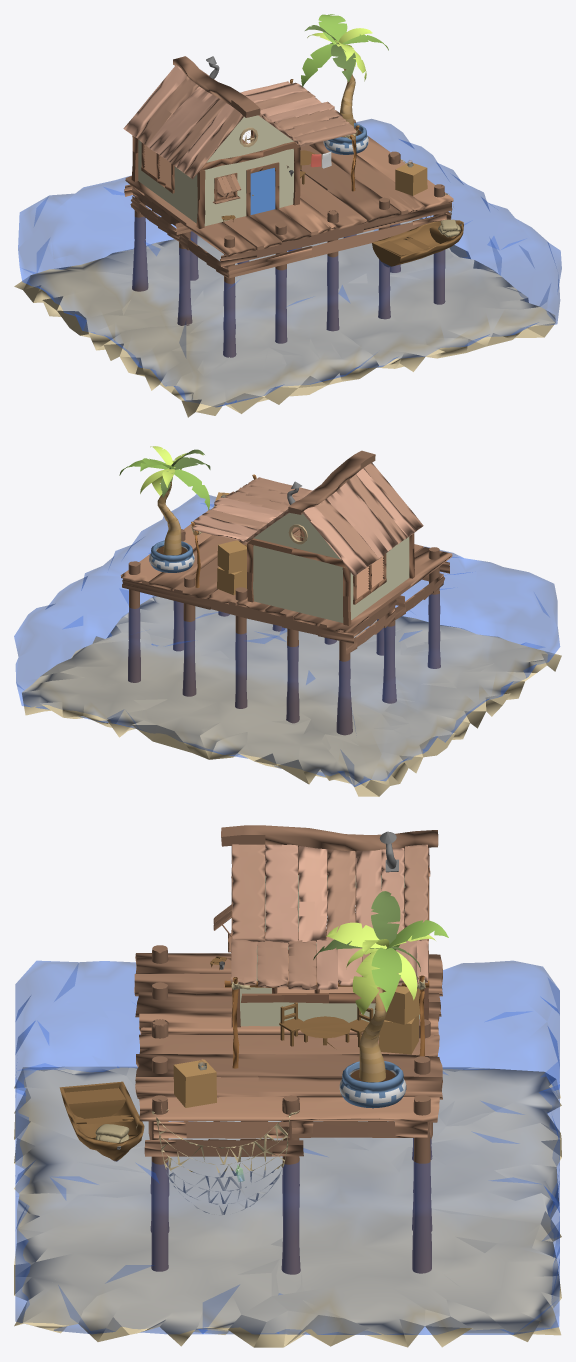
The model's file is beach.glb.
3 renders of one model, top to bottom at view 1: azimuth 30°, elevation 25°; view 2: azimuth 150°, elevation 25°; view 3: azimuth 270°, elevation 25°, orthographic. The views are drawn at different scales.
Parts seen in each view (by area): view 1: Water, Sand bottom, Main support poles, Roof, Wall, Palm leafs, Plane.008, Plank.005, Boat, Plane, Plank.010, House supports (+22 smaller); view 2: Water, Sand bottom, Main support poles, Roof, Wall 3, Plane.002, Palm leafs, House supports, Plank, Wall 4, Wall 6, Roof beam (+18 smaller); view 3: Water, Sand bottom, Roof, Main support poles, Palm leafs, Plank.011, Plank.005, Plank.004, Boat, Plank.010, Roof beam, Plane.003 (+20 smaller).
Part boxes in pixels (<box>): Water: <box>18,119,561,407</box>; Sand bottom: <box>14,218,555,417</box>; Main support poles: <box>132,119,445,357</box>; Roof: <box>123,65,300,179</box>; Wall: <box>204,148,293,226</box>; Palm leafs: <box>301,14,388,87</box>; Plane.008: <box>228,214,446,278</box>; Plank.005: <box>300,145,400,222</box>; Boat: <box>372,220,463,267</box>; Plane: <box>220,202,452,266</box>; Plank.010: <box>309,141,424,214</box>; House supports: <box>131,135,300,228</box>; Water: <box>14,494,559,786</box>; Sand bottom: <box>22,596,561,796</box>; Main support poles: <box>128,529,440,735</box>; Roof: <box>245,463,423,576</box>; Wall 3: <box>253,545,343,622</box>; Plane.002: <box>122,578,353,643</box>; Palm leafs: <box>119,446,210,510</box>; House supports: <box>247,533,414,625</box>; Plank: <box>320,547,452,632</box>; Wall 4: <box>350,537,409,619</box>; Wall 6: <box>253,513,340,559</box>; Roof beam: <box>288,450,375,514</box>; Water: <box>15,961,559,1334</box>; Sand bottom: <box>14,1066,561,1347</box>; Roof: <box>231,844,430,943</box>; Main support poles: <box>150,945,432,1274</box>; Palm leafs: <box>313,891,448,1015</box>; Plank.011: <box>139,1096,439,1122</box>; Plank.005: <box>135,1054,442,1080</box>; Plank.004: <box>139,1034,439,1056</box>; Boat: <box>59,1081,144,1161</box>; Plank.010: <box>135,1077,442,1099</box>; Roof beam: <box>221,825,438,852</box>; Plane.003: <box>144,1139,303,1156</box>.
Size of the model in its own units: 215 by 137 by 188.
